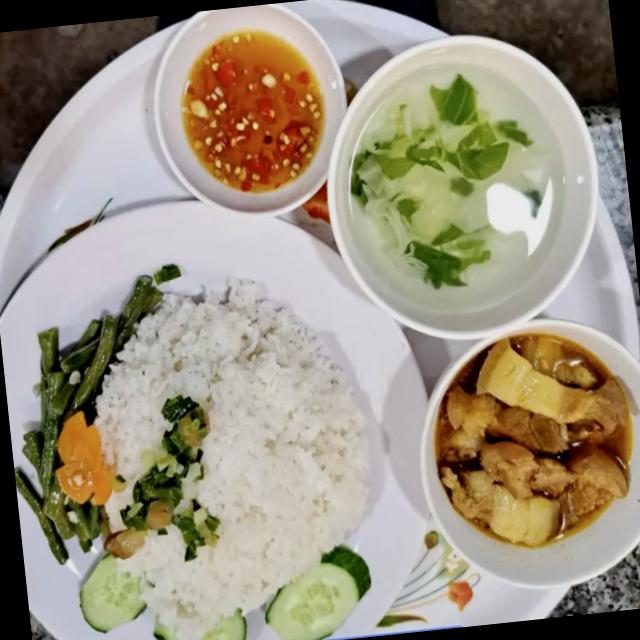com: (96, 281, 369, 640)
dua leo: (265, 546, 370, 640), (79, 554, 145, 632), (200, 611, 245, 640), (154, 621, 174, 640)
kho tieu: (438, 341, 629, 548)
nuoc mam: (179, 30, 325, 193)
rau: (14, 266, 180, 565)
